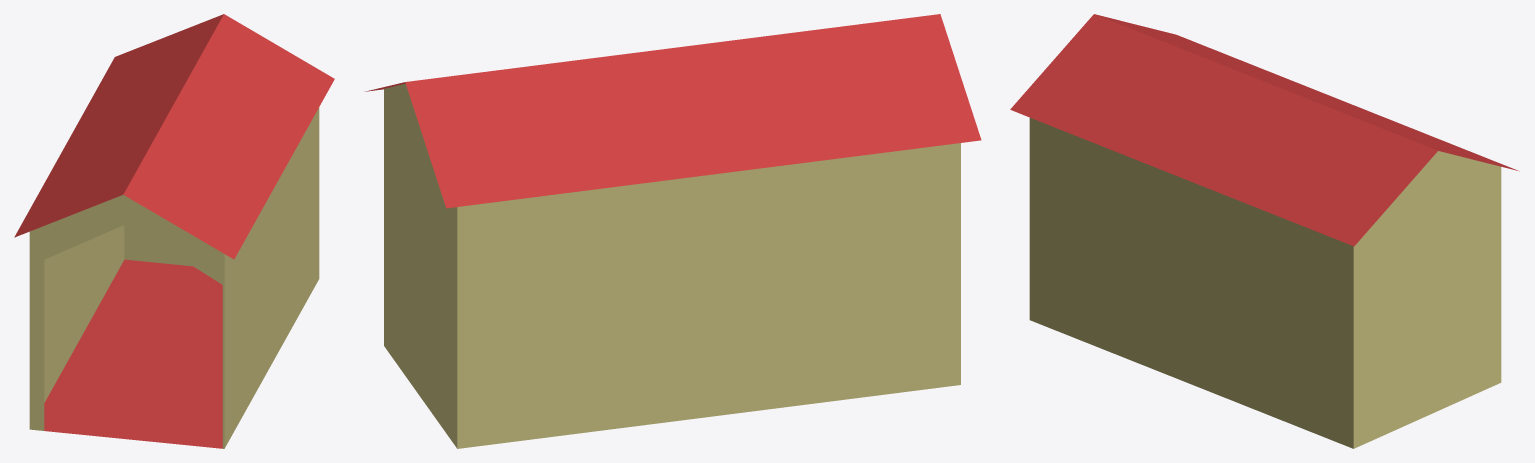
The picture shows the model from 3 angles, left to right: view 1: azimuth 30°, elevation 25°; view 2: azimuth 150°, elevation 25°; view 3: azimuth 270°, elevation 25°; orthographic projection. The views are drawn at different scales.
Bounding box in the file's own units: 26.86 × 27.39 × 15.9.
